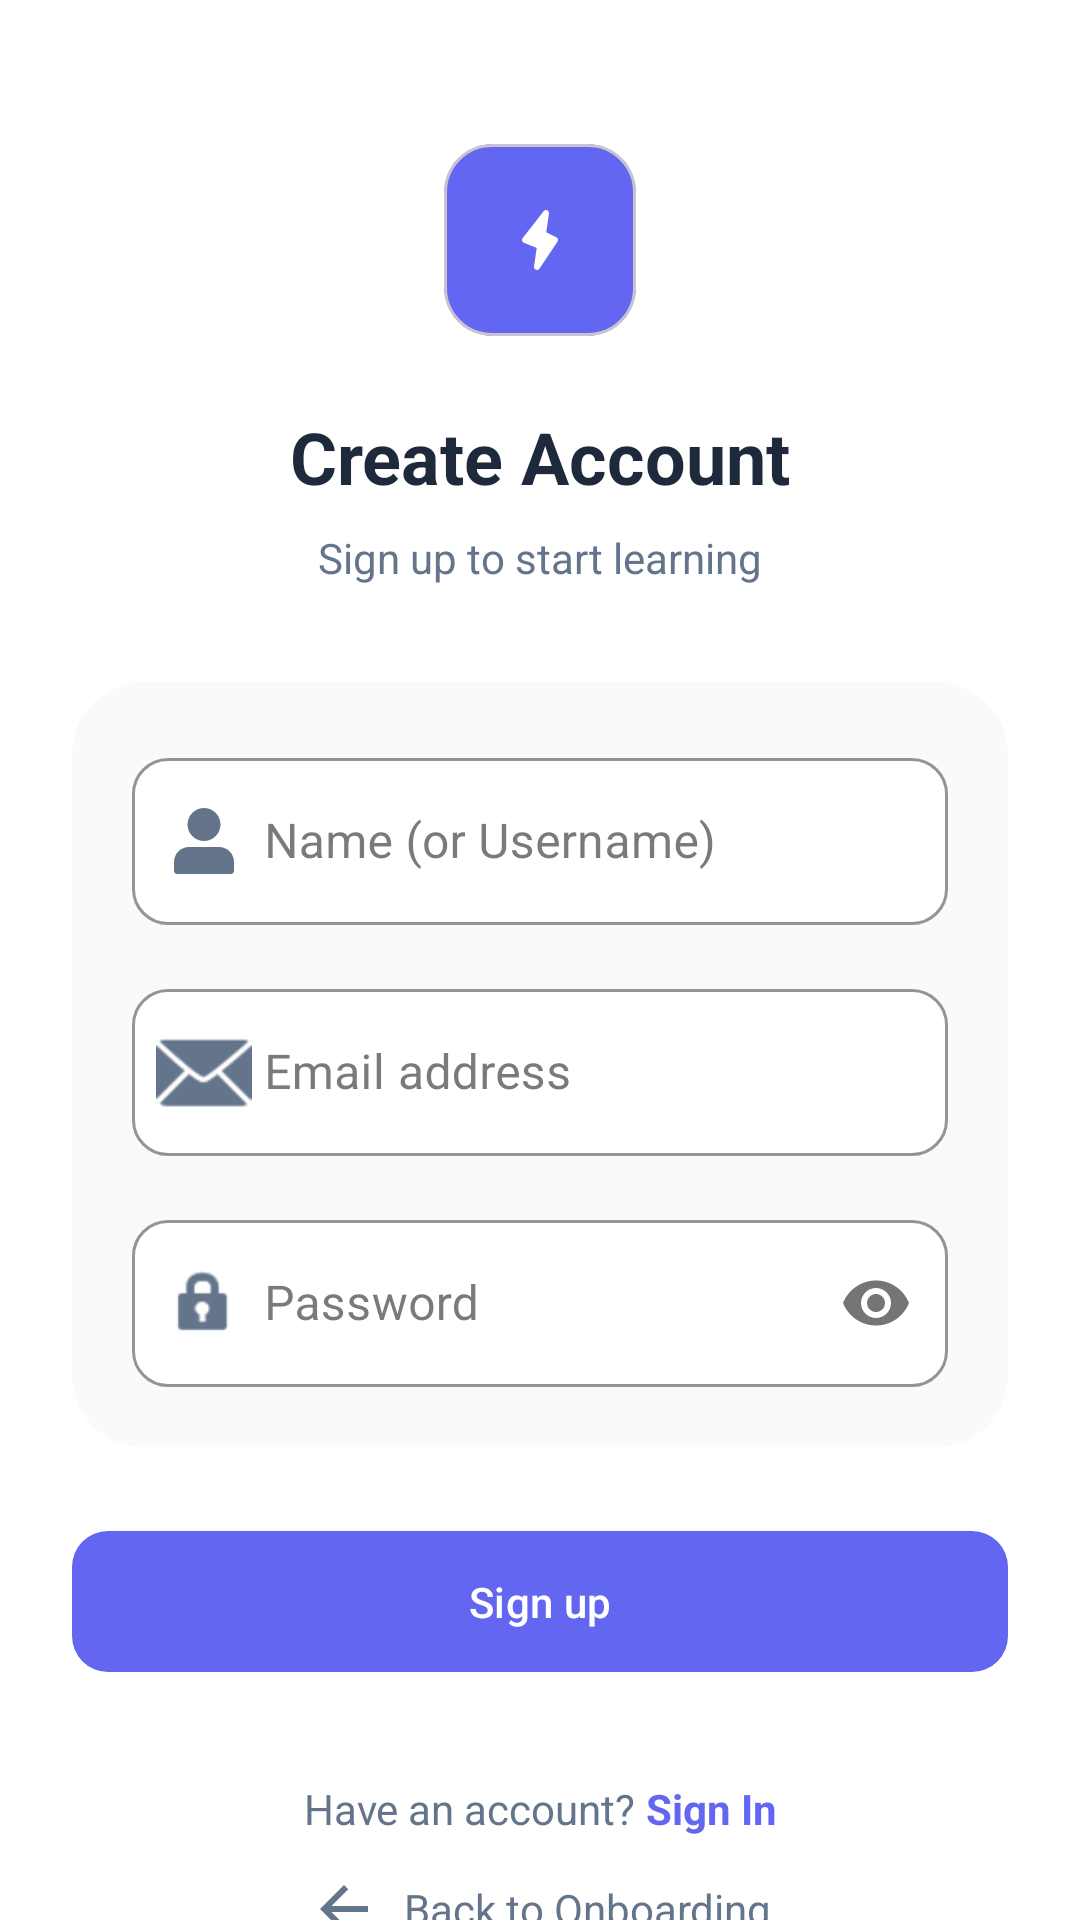

Icons on this 1080 x 1920 Android screen, each with the point to tap as (x,y):
lightning: (540,240)
